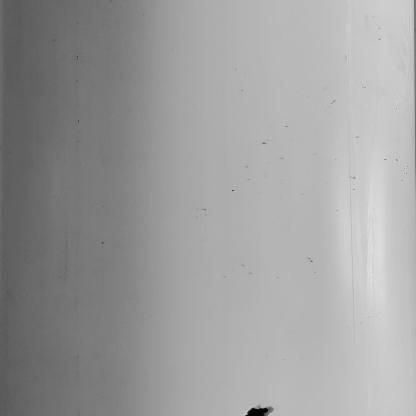kongdong: (228, 391, 286, 416)
